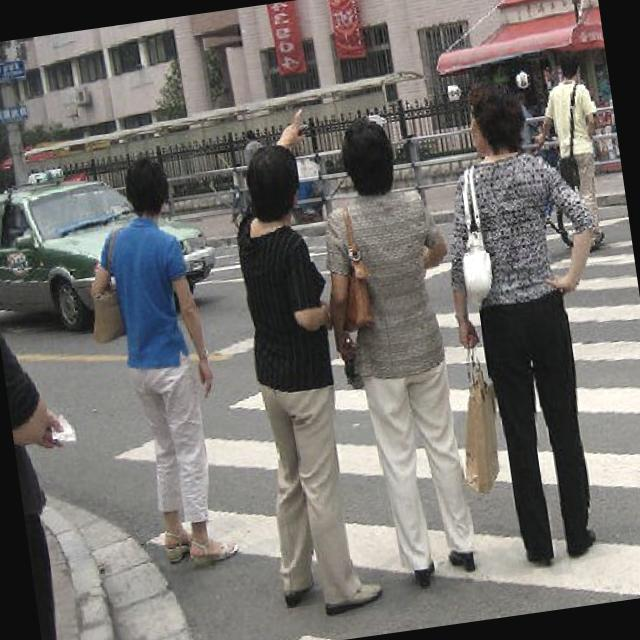Person: (419, 70, 640, 578), (206, 94, 392, 618), (304, 102, 488, 594), (68, 141, 245, 582), (540, 54, 612, 211)
